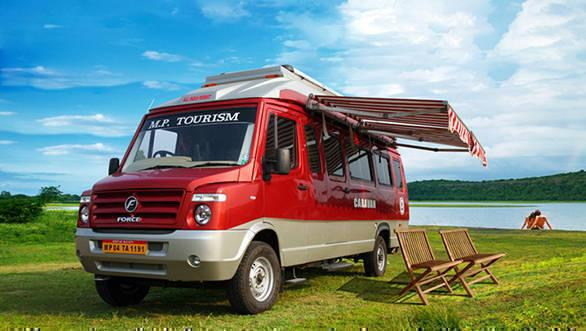van: (74, 64, 411, 315)
